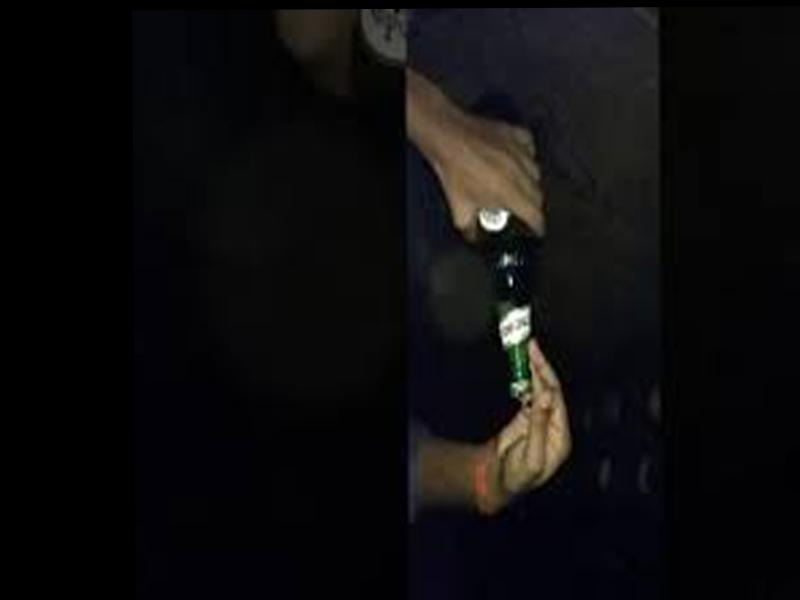Beer: (462, 96, 539, 397)
